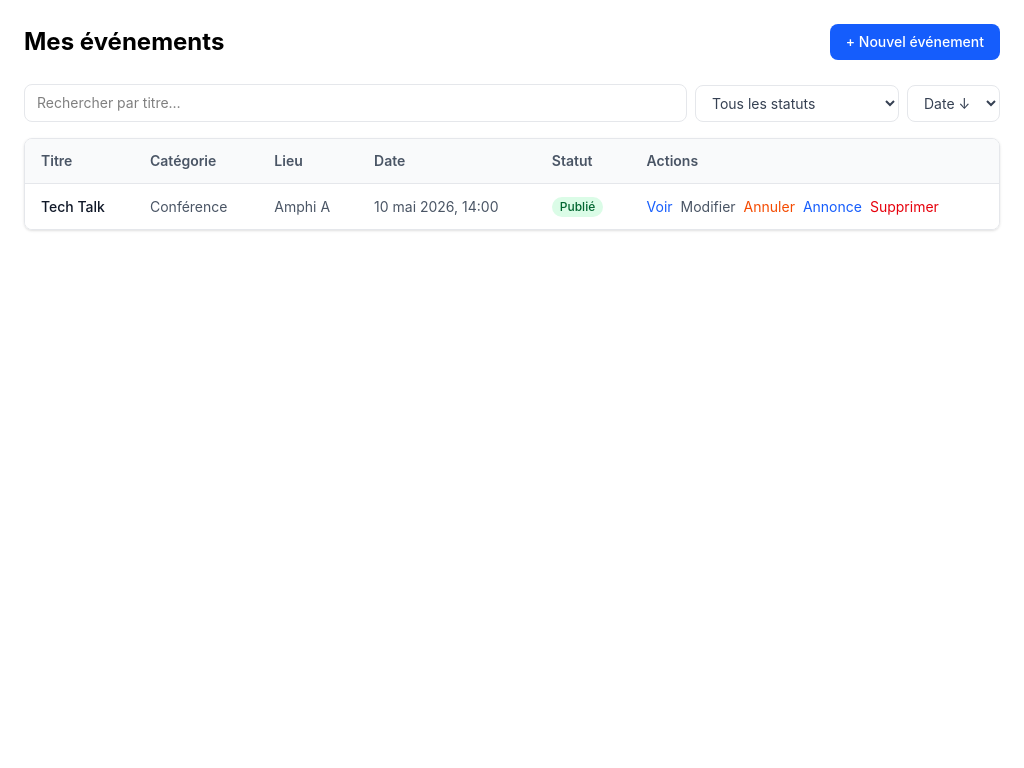
Test: MyEventsPage › warns that participants will be notified when deleting a PUBLISHED event
Click the button "Supprimer".
click(904, 206)  # box x1=870 y1=196 x2=939 y2=216
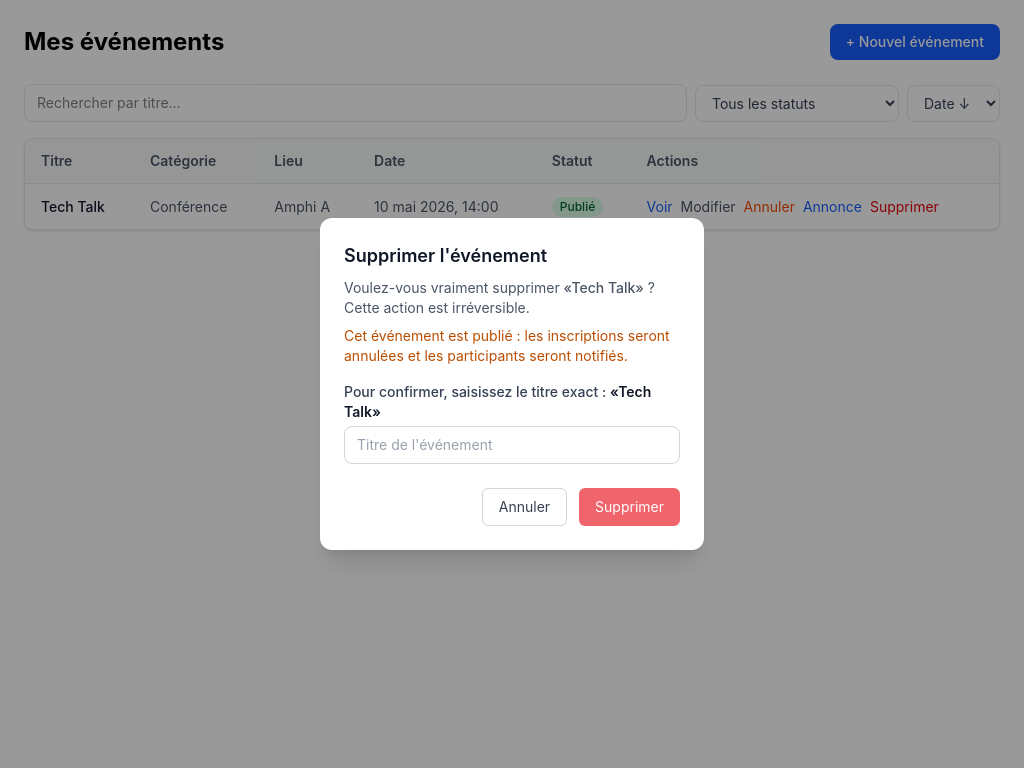
Now the text "inscriptions seront annulées" is shown, box x1=344 y1=327 x2=670 y2=364
